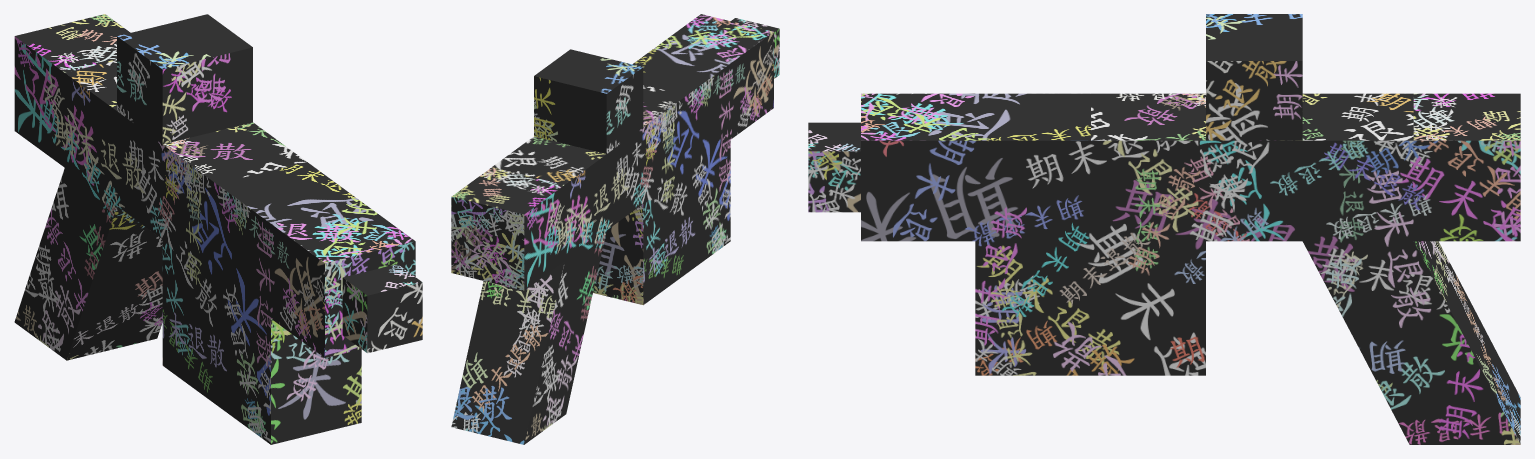
File: gun.fbx
3 views of the same model, side by side, from view 1: azimuth 30°, elevation 25°; view 2: azimuth 150°, elevation 25°; view 3: azimuth 270°, elevation 25° (orthographic). The views are drawn at different scales.
Visible parts, largest first — view 1: Cube; view 2: Cube; view 3: Cube.
Part boxes in pixels (left/top/right/bottom): Cube: left=14, top=14, right=422, bottom=444; Cube: left=451, top=14, right=779, bottom=444; Cube: left=808, top=14, right=1520, bottom=444.
Size of the model in its own units: 13.07 by 49.79 by 83.74.
1 material, 1 textured.
